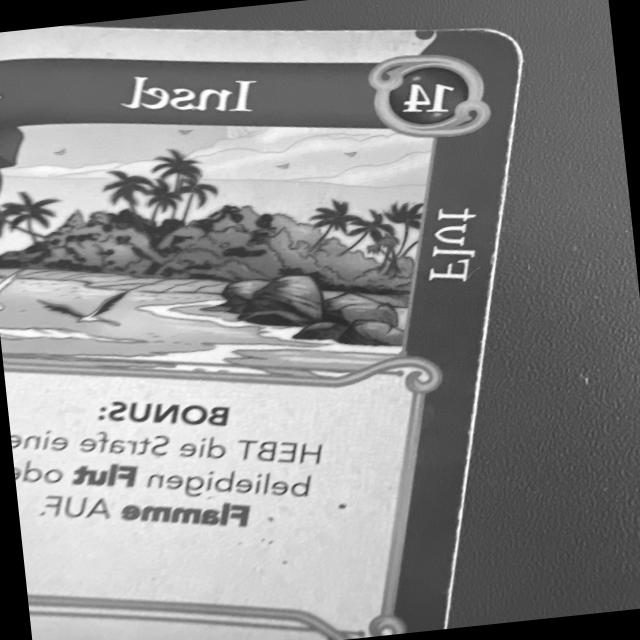Island: (0, 28, 523, 640)
